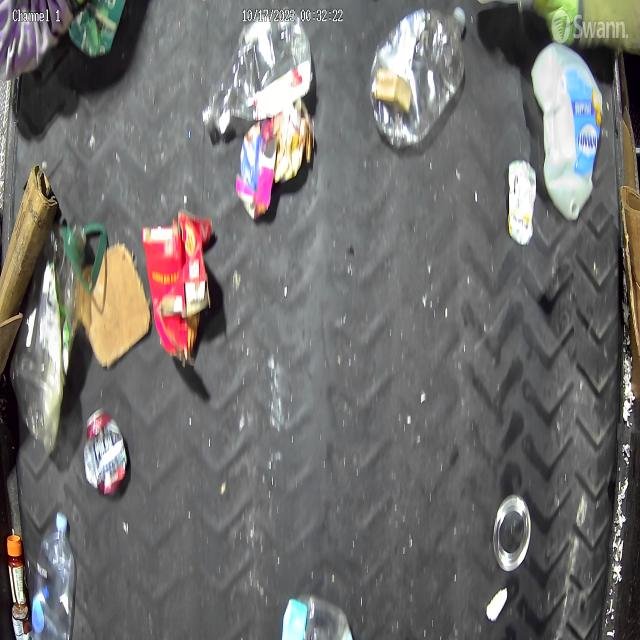can: (84, 407, 130, 498), (492, 494, 532, 574), (507, 155, 536, 249)
milk_jug: (530, 42, 602, 222)
plastic_bottle: (9, 220, 88, 456), (371, 6, 468, 147), (204, 15, 314, 132), (31, 512, 75, 640)
